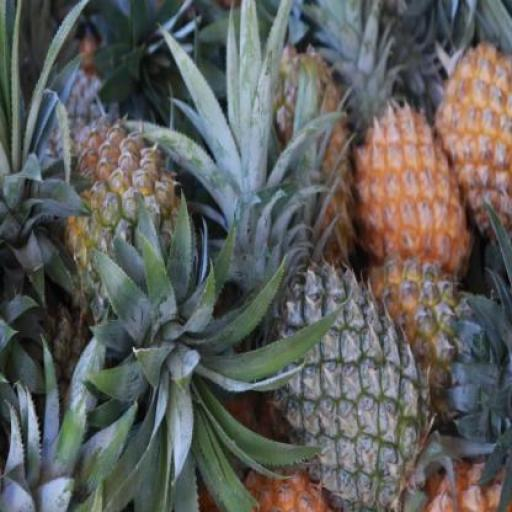------------------------------: (51, 118, 190, 328)
Pineapple - v8 v1: (354, 102, 468, 282), (434, 46, 511, 251)
